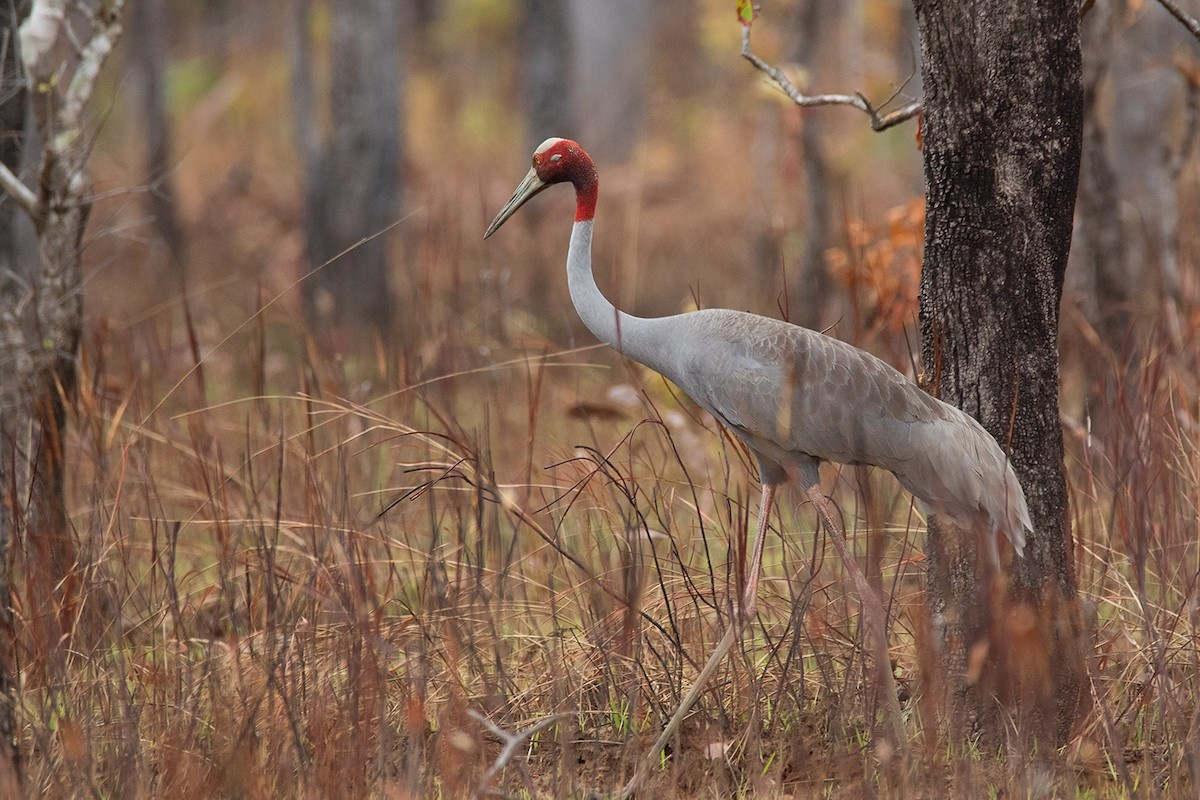crane: (498, 120, 1029, 726)
